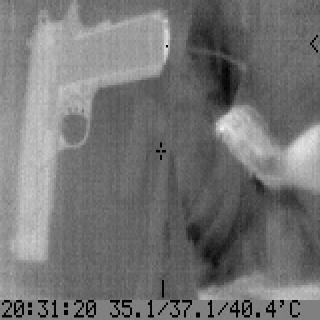Gun: (8, 3, 174, 265)
